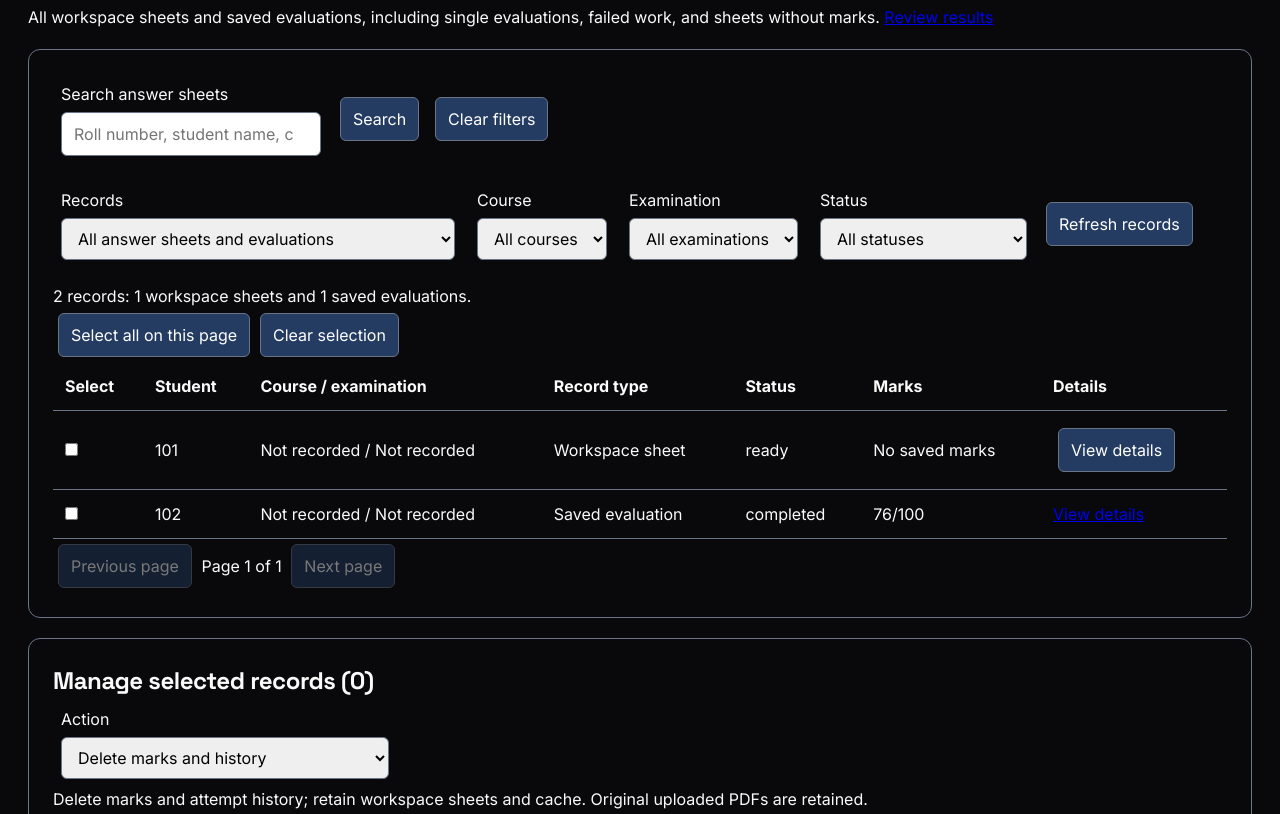
it: cache-only selection cannot silently delete a saved evaluation
Click the checkbox named "Select 102 legacy" at [72, 514], box [65,507,78,520]
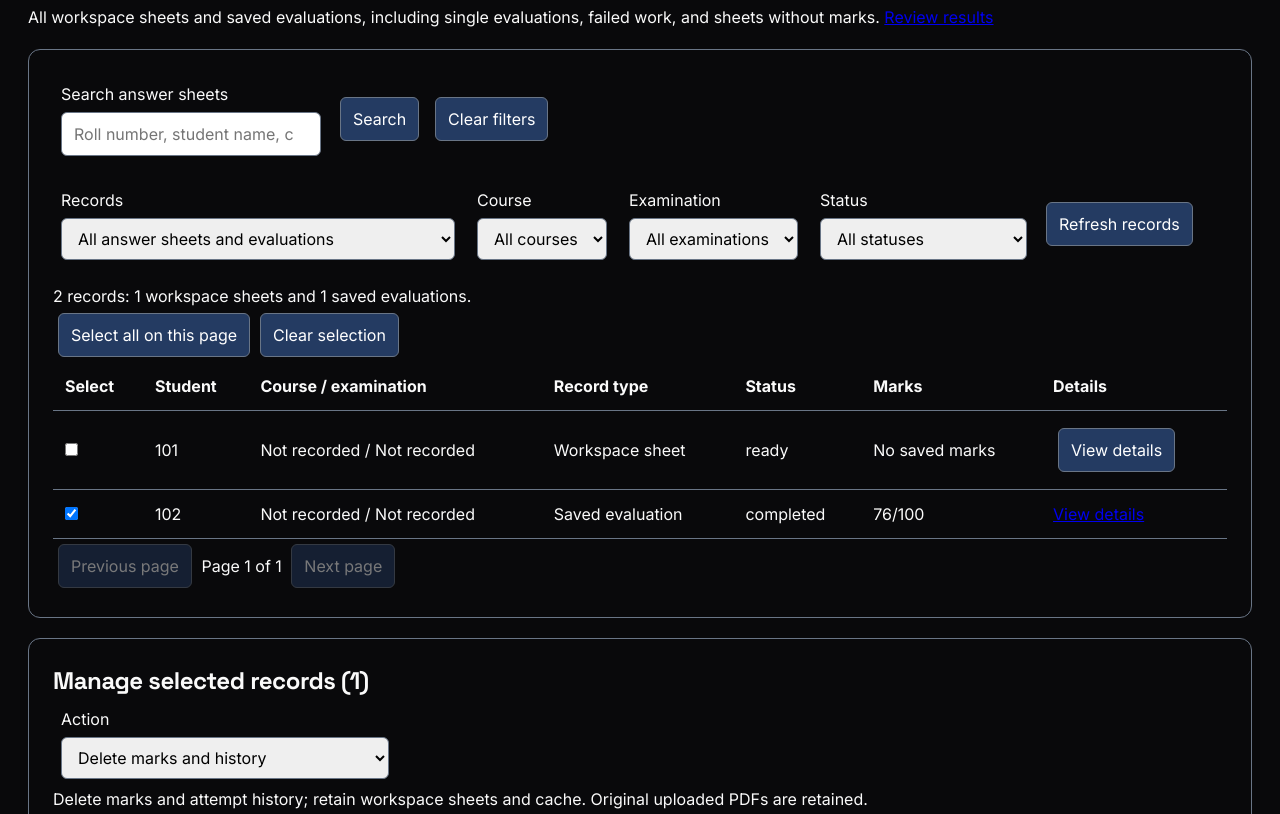
Select "Clear cache only (workspace sheets)" in the dropdown labelled "Action" at [225, 758], box [61,737,389,779]
(page scrolled)
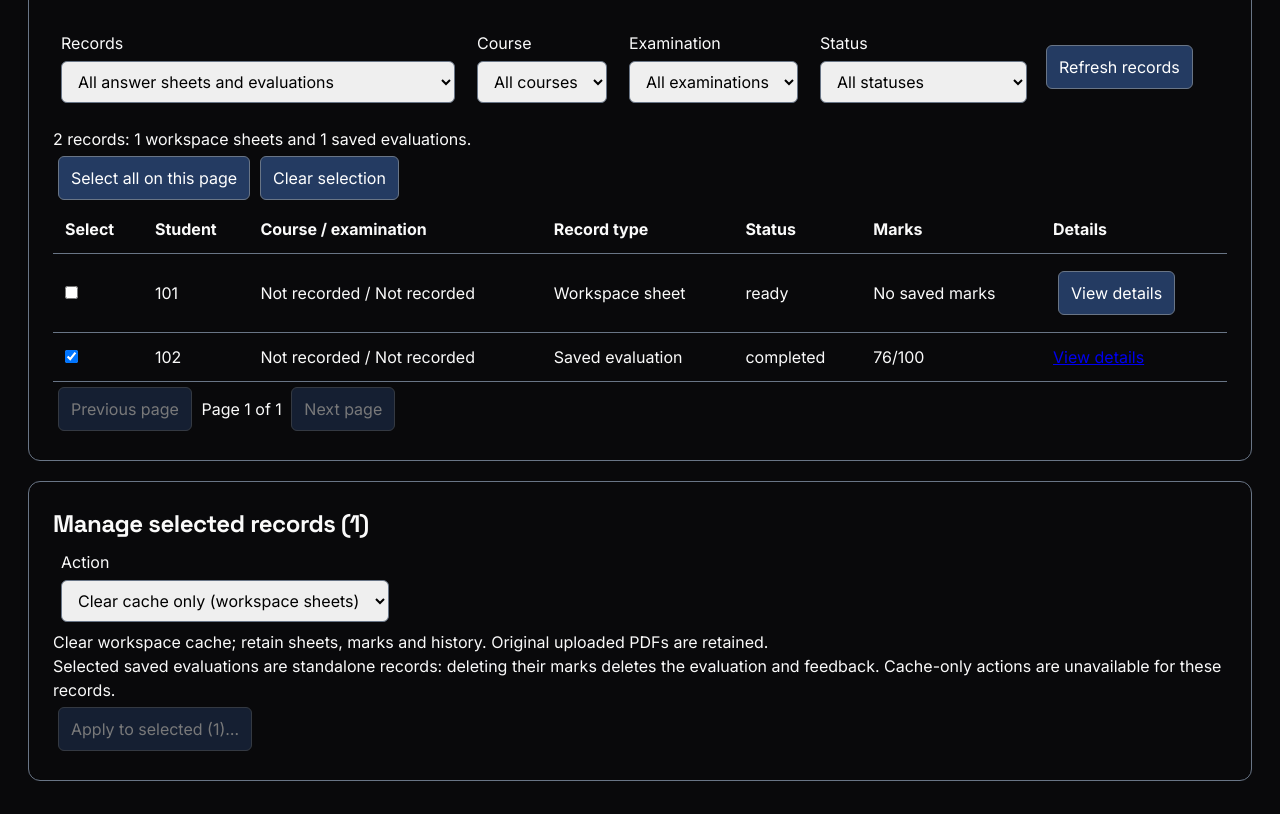
Check: the button "Apply to selected (1)…" is disabled, box [58,707,252,751]
